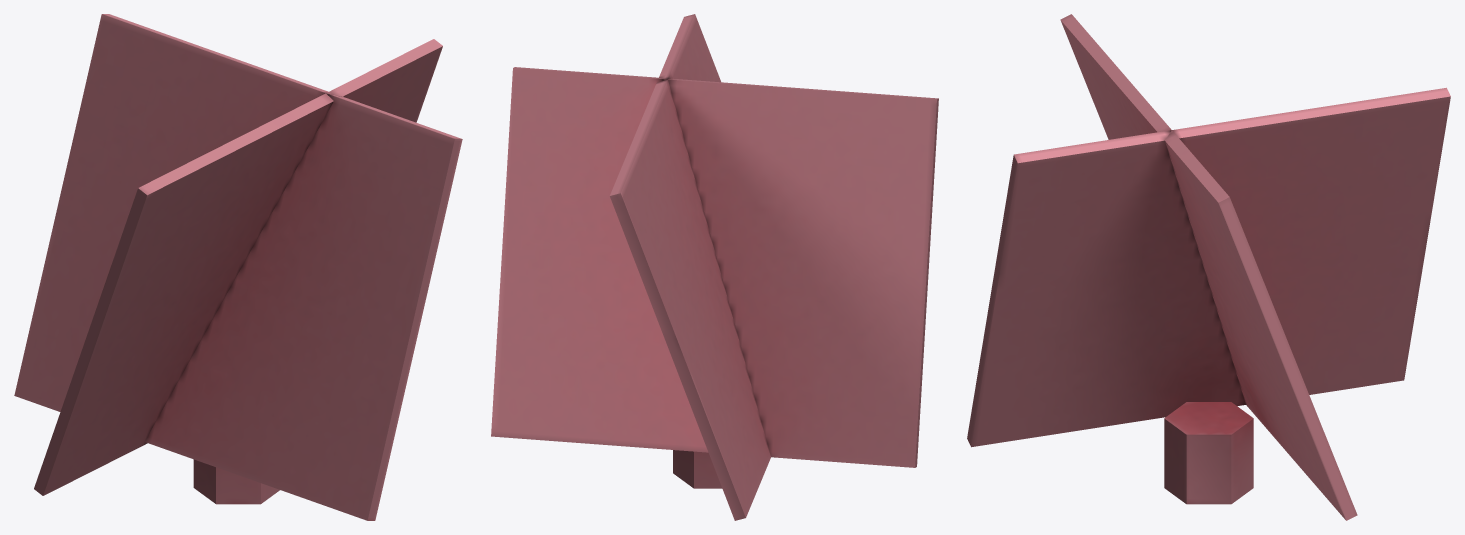
Rendered from coralfan.glb.
3 views of the same model, side by side, from view 1: azimuth 30°, elevation 25°; view 2: azimuth 150°, elevation 25°; view 3: azimuth 270°, elevation 25° (orthographic). The views are drawn at different scales.
Visible parts, largest first — view 1: coralfan; view 2: coralfan; view 3: coralfan.
Part boxes in pixels (x1,y1,x2,y2): coralfan: (14, 14, 462, 520); coralfan: (491, 14, 938, 520); coralfan: (967, 14, 1450, 520).
Size of the model in its own units: 0.7557 by 0.6746 by 0.7557.
Materials: 1 (1 with a texture image).
